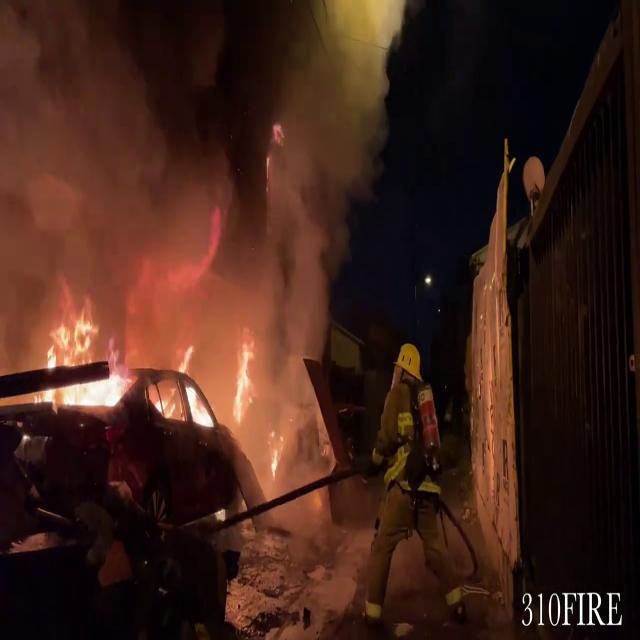Fire: (32, 298, 256, 440)
Smoke: (0, 0, 400, 352)
